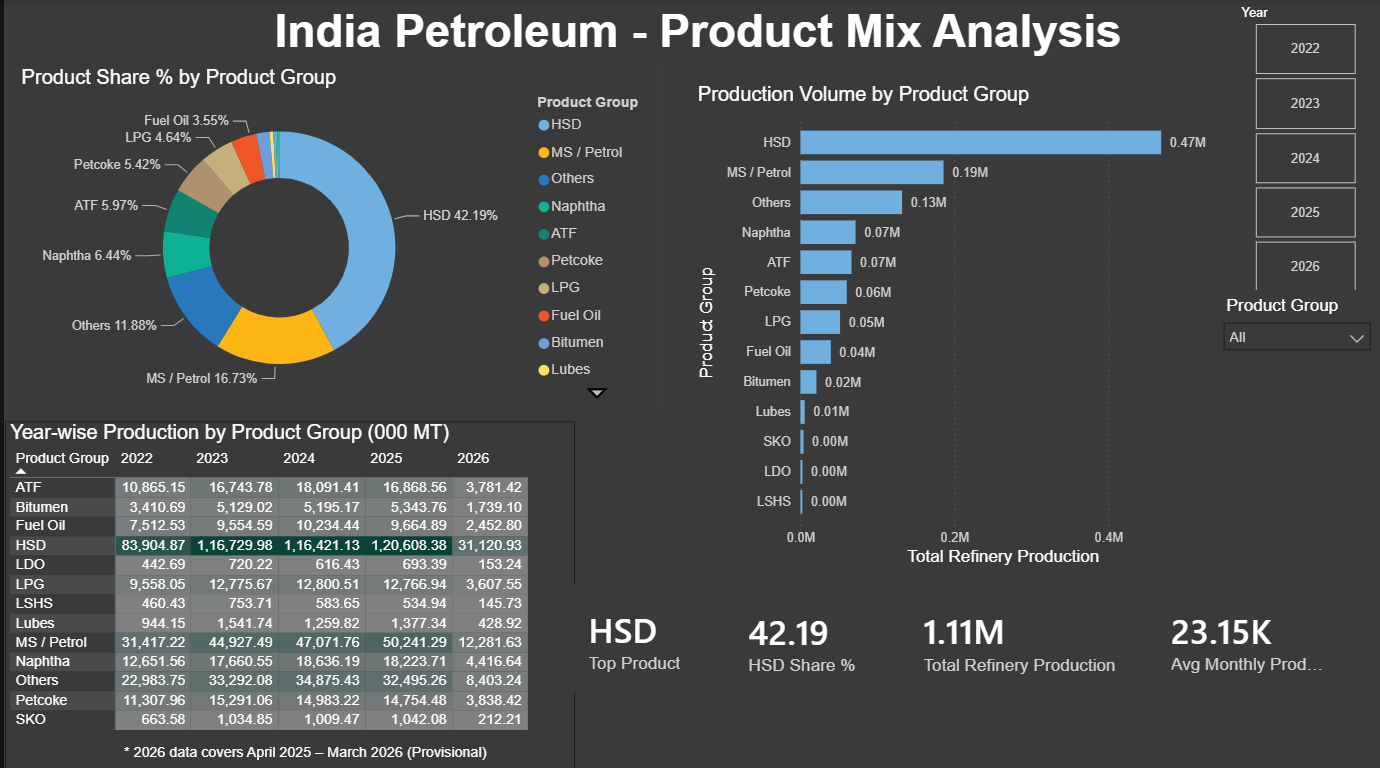

Layout of this report page (visuals, bound fields, positions):
{"tool":"powerbi","page":{"name":"Petroleum Product Distribution","canvas":[1280,720],"ordinal":1},"visuals":[{"type":"textbox","box":[9.6,0,1270.7,76.8],"z":0},{"type":"donutChart","fields":{"Y":["_Measures.Product Share %"],"Category":["FactRefinery.Product Group"]},"box":[10,61.4,598.6,317.1],"z":1000},{"type":"clusteredBarChart","title":"Production Volume by Product Group","fields":{"Category":["FactRefinery.Product Group"],"Y":["_Measures.Total Refinery Production"]},"box":[640,77.1,497.1,454.3],"z":2000},{"type":"pivotTable","title":"Year-wise Production by Product Group (000 MT)","fields":{"Rows":["FactRefinery.Product Group"],"Columns":["DateTable.Year"],"Values":["_Measures.Total Refinery Production"]},"box":[0,391.4,530,328.6],"z":3000},{"type":"slicer","fields":{"Values":["DateTable.Year"]},"box":[1137.1,0,142.9,278.6],"z":4000},{"type":"slicer","fields":{"Values":["FactRefinery.Product Group"]},"box":[1122.9,270,157.1,261.4],"z":5000},{"type":"cardVisual","fields":{"Data":["_Measures.Top Product"]},"box":[512.9,544.3,148.6,100],"z":6000},{"type":"cardVisual","fields":{"Data":["_Measures.HSD Share %"]},"box":[661.4,545.7,162.9,100],"z":7000},{"type":"textbox","box":[105.7,687.1,407.1,32.9],"z":8000},{"type":"cardVisual","fields":{"Data":["_Measures.Total Refinery Production"]},"box":[824.3,538.6,252.9,114.3],"z":9000},{"type":"cardVisual","fields":{"Data":["_Measures.Avg Monthly Production"]},"box":[1054.3,520,204.3,150],"z":10000}]}

Visuals, with their boxes in screenshot pixels (x1, y1, x2, y2), scaled from the page's 1280x720 canvas onto the 1380x768 screenshot:
textbox: box(10, 0, 1379, 82)
donutChart - _Measures.Product Share % x FactRefinery.Product Group: box(11, 65, 656, 404)
"Production Volume by Product Group" clusteredBarChart: box(690, 82, 1226, 567)
"Year-wise Production by Product Group (000 MT)" pivotTable: box(0, 417, 571, 767)
slicer - DateTable.Year: box(1226, 0, 1379, 297)
slicer - FactRefinery.Product Group: box(1211, 288, 1379, 567)
cardVisual - _Measures.Top Product: box(553, 581, 713, 687)
cardVisual - _Measures.HSD Share %: box(713, 582, 889, 689)
textbox: box(114, 733, 553, 767)
cardVisual - _Measures.Total Refinery Production: box(889, 575, 1161, 696)
cardVisual - _Measures.Avg Monthly Production: box(1137, 555, 1357, 715)
